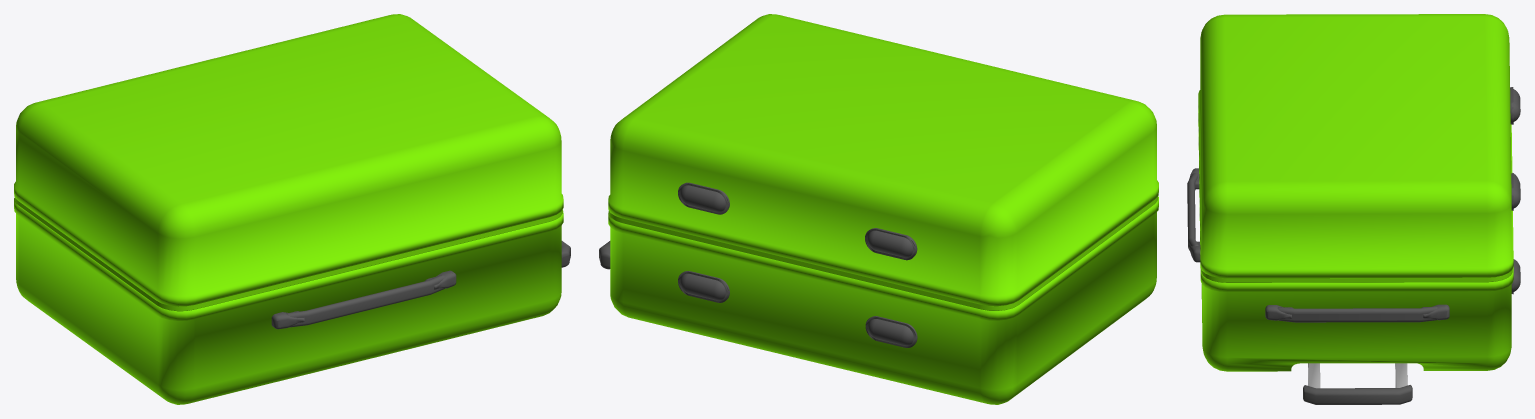
Rendered from luggage2.fbx.
The picture shows the model from 3 angles, left to right: view 1: azimuth 30°, elevation 25°; view 2: azimuth 150°, elevation 25°; view 3: azimuth 270°, elevation 25°; orthographic projection. The views are drawn at different scales.
Parts seen in each view (by area): view 1: luggage2; view 2: luggage2; view 3: luggage2.
Boxes of the visible parts, <box> form: luggage2: <box>14,14,570,404</box>; luggage2: <box>599,14,1158,404</box>; luggage2: <box>1187,14,1520,404</box>.
Size of the model in its own units: 180 by 73.52 by 118.
